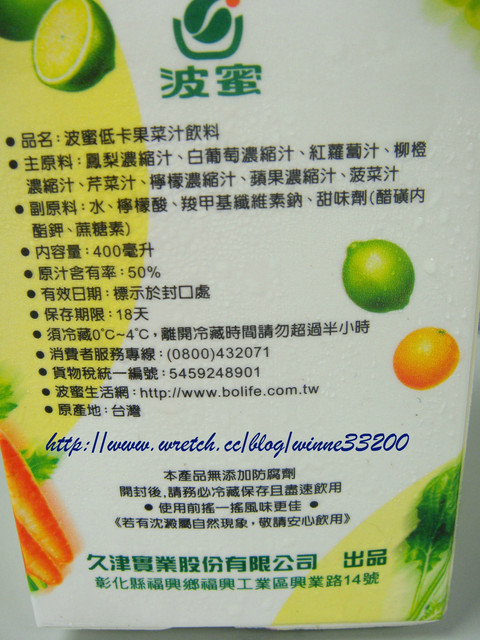vegetables juice: (1, 15, 462, 628)
